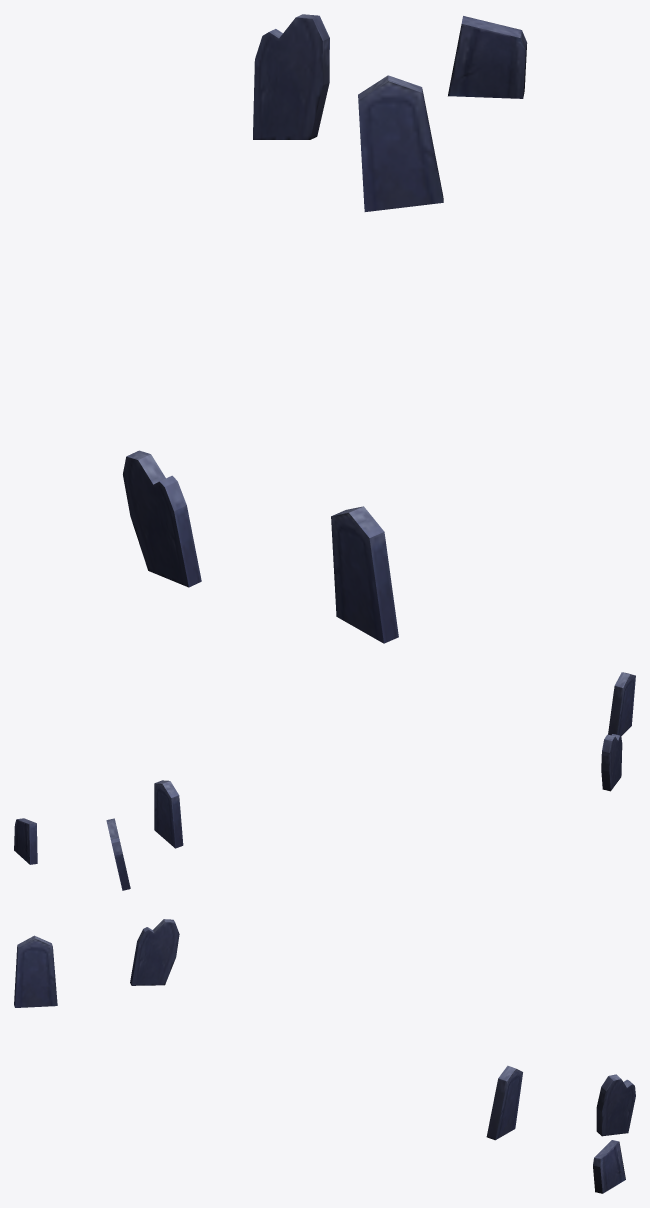
Rendered from Area03_8.fbx.
3 views of the same model, one above another, from view 1: azimuth 30°, elevation 25°; view 2: azimuth 150°, elevation 25°; view 3: azimuth 270°, elevation 25° (orthographic). The views are drawn at different scales.
Visible parts, largest first — view 1: Area03_8; view 2: Area03_8; view 3: Area03_8.
Boxes of the visible parts, bbox=[...] form: Area03_8: bbox=[123, 14, 527, 643]; Area03_8: bbox=[14, 672, 635, 890]; Area03_8: bbox=[14, 919, 635, 1193].
Bounding box in the file's own units: 1947 × 334 × 2445.
